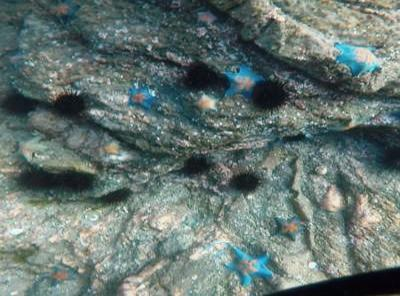urchin: (250, 77, 291, 115), (58, 165, 97, 195), (1, 88, 40, 117), (185, 58, 219, 91), (15, 165, 56, 192), (98, 185, 135, 211), (53, 90, 85, 117), (230, 170, 261, 195)
